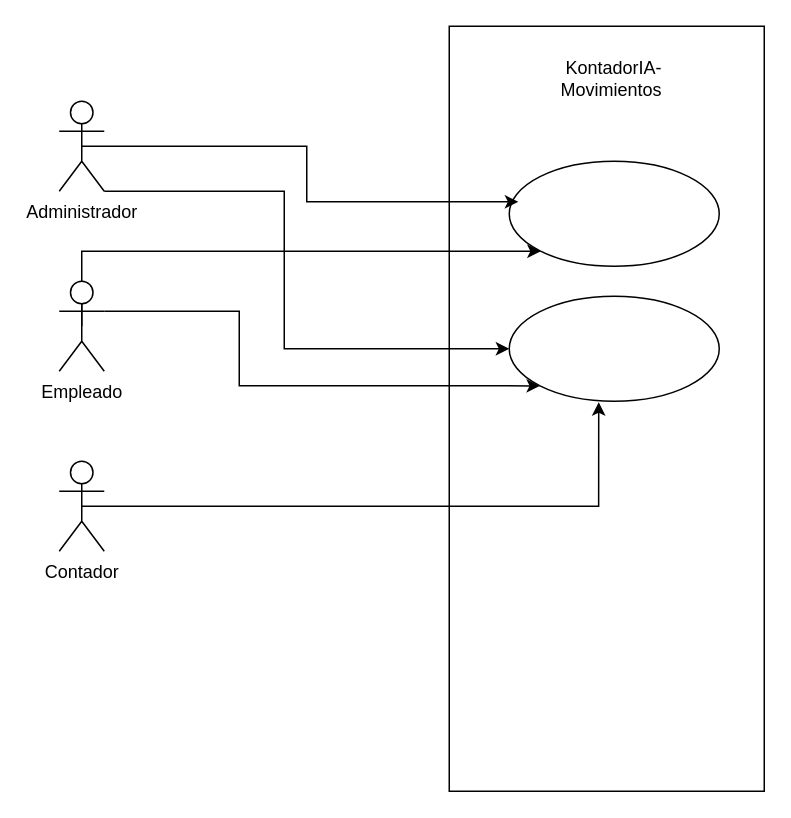
Some shapes in this 791 by 818 pixel diagram are drawn without their labels. The centre of each missing label's shape, as x and y in pixels:
Consultar y filtrar movimientos: the point at 613,348
Registrar ingresos y costos: the point at 613,213
